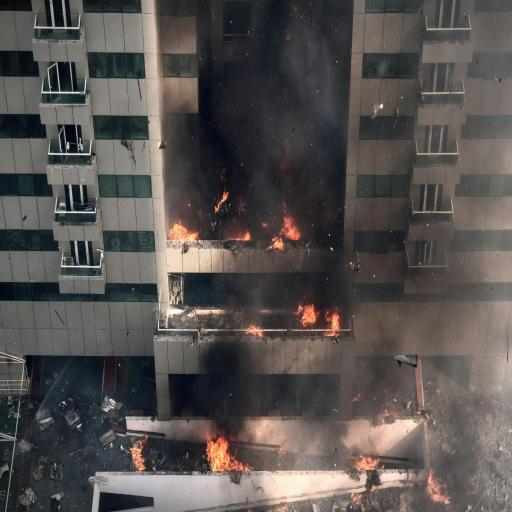buildingfire: (132, 26, 419, 512)
